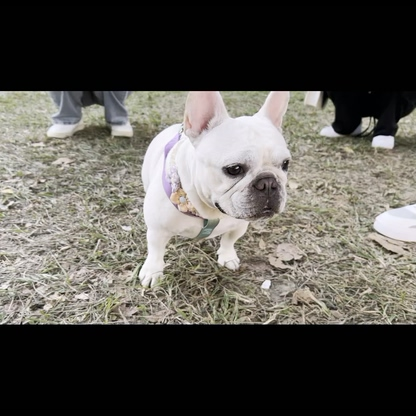bulldog: (135, 91, 296, 290)
